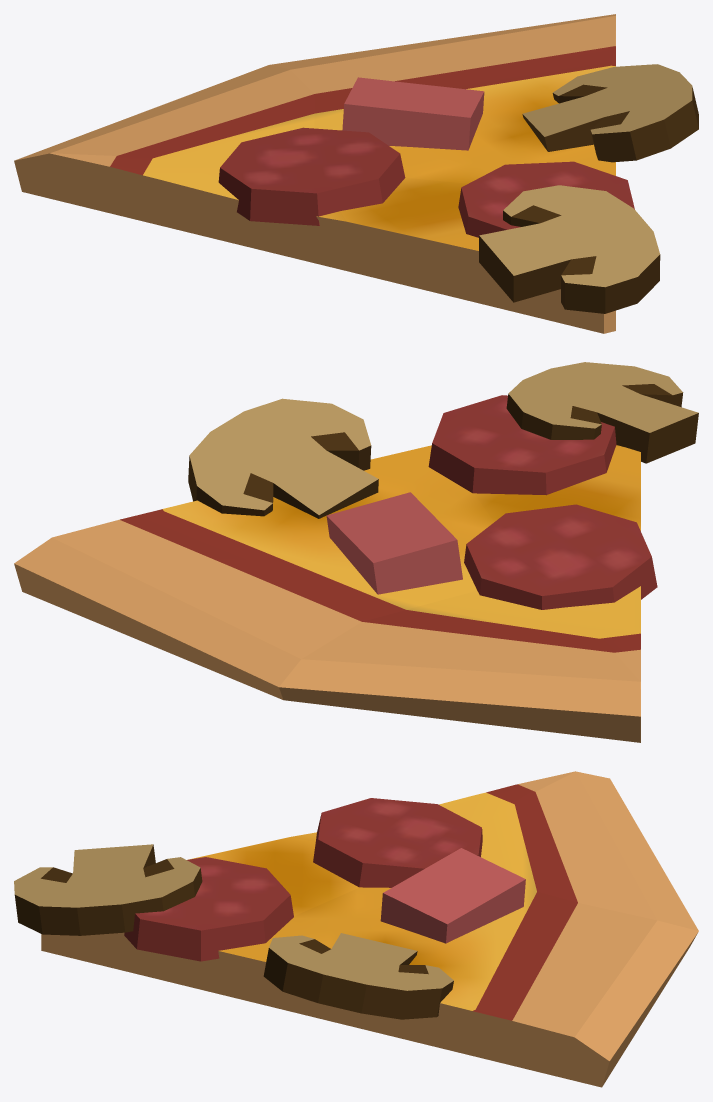
The model's file is SM_Prop_Food_Pizza_Cooked_08.02.obj.
The picture shows the model from 3 angles, top to bottom: view 1: azimuth 30°, elevation 25°; view 2: azimuth 150°, elevation 25°; view 3: azimuth 270°, elevation 25°; orthographic projection. The views are drawn at different scales.
Parts seen in each view (by area): view 1: SM_Prop_Food_Pizza_Cooked_08.02_0; view 2: SM_Prop_Food_Pizza_Cooked_08.02_0; view 3: SM_Prop_Food_Pizza_Cooked_08.02_0.
Boxes of the visible parts, x1,y1,x2,y2 form: SM_Prop_Food_Pizza_Cooked_08.02_0: [14, 14, 698, 333]; SM_Prop_Food_Pizza_Cooked_08.02_0: [14, 362, 698, 742]; SM_Prop_Food_Pizza_Cooked_08.02_0: [14, 771, 698, 1087].
Bounding box in the file's own units: 0.2905 × 0.0402 × 0.2972.
Materials: 1 (1 with a texture image).
